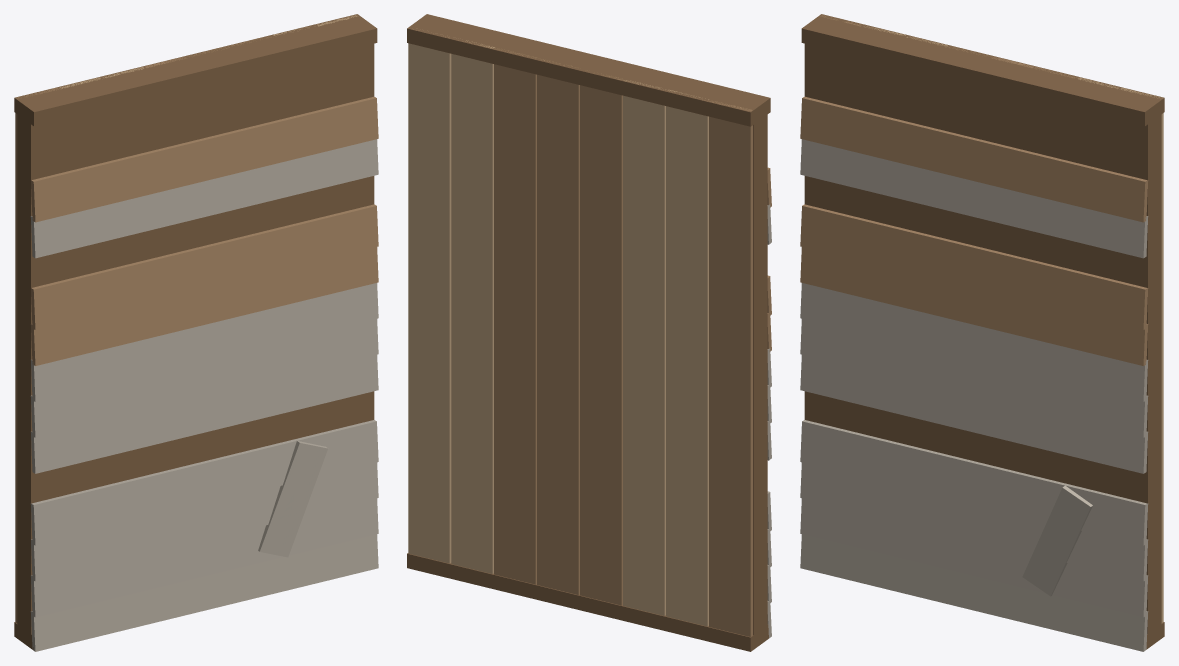
The model's file is SM_Wall_Plank_Damaged.glb.
3 renders of one model, left to right at view 1: azimuth 30°, elevation 25°; view 2: azimuth 150°, elevation 25°; view 3: azimuth 330°, elevation 25°, orthographic.
Visible parts, largest first — view 1: SM_Wall_Plank_Damaged; view 2: SM_Wall_Plank_Damaged; view 3: SM_Wall_Plank_Damaged.
Part boxes in pixels (x1,y1,x2,y2): SM_Wall_Plank_Damaged: (14, 14, 378, 651); SM_Wall_Plank_Damaged: (407, 14, 771, 651); SM_Wall_Plank_Damaged: (800, 14, 1164, 651).
Bounding box in the file's own units: 2 × 3 × 0.225.
